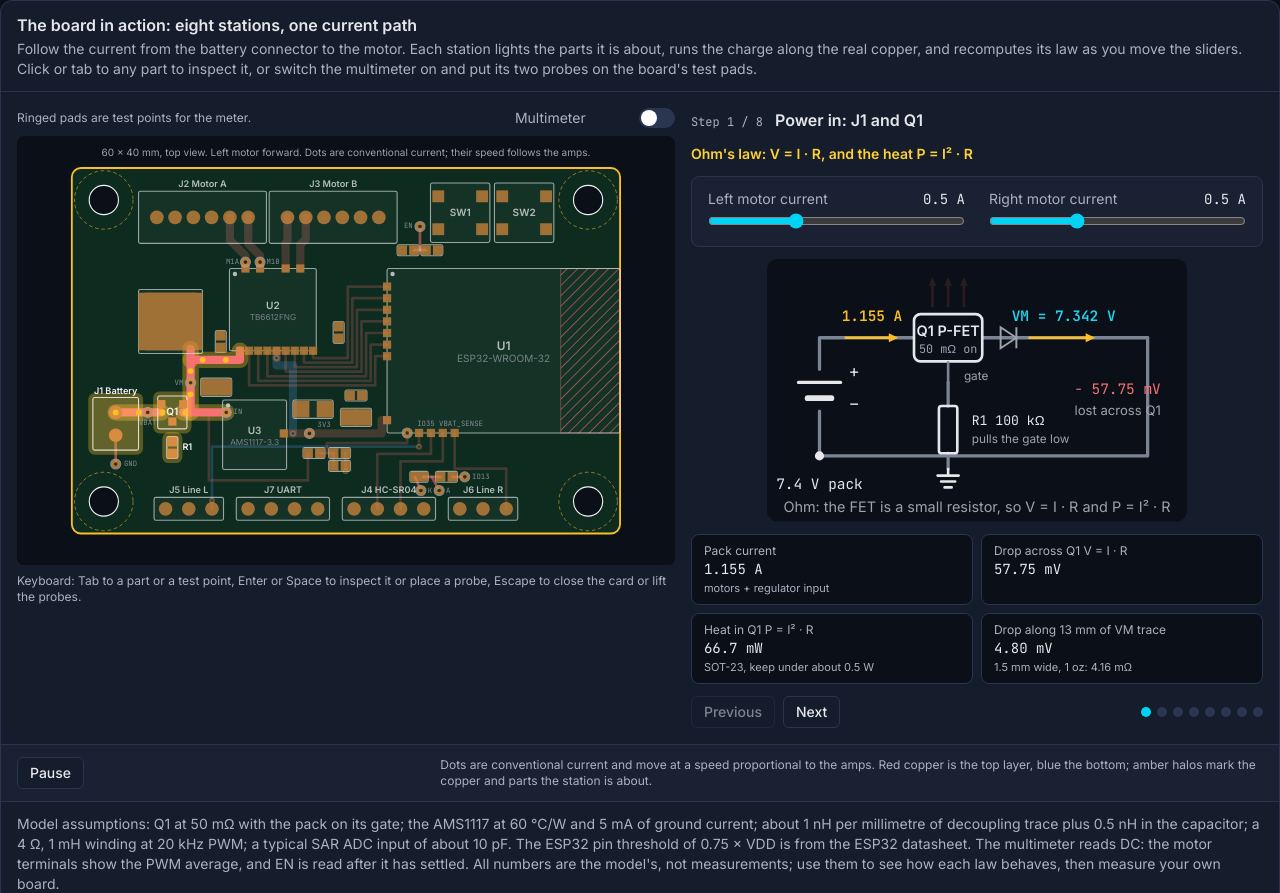
Scenario: BoardInAction multimeter › is off until the Multimeter switch is on; then it asks for the black probe first
The width and height of the screenshot is (1280, 893).
Click the switch labelled "Multimeter".
click(595, 118)  # box [515,108,675,128]
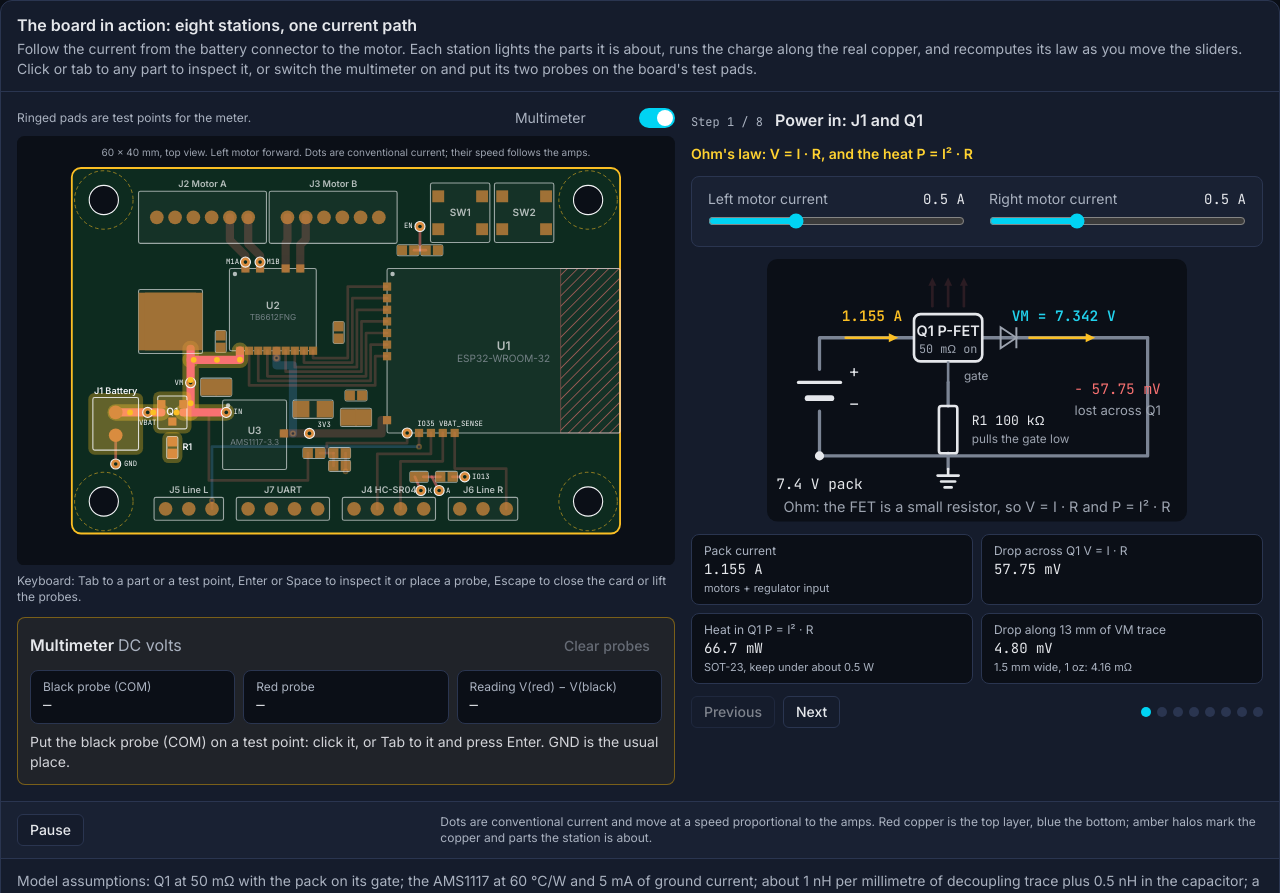
Expected: the element that starts with "Multimeter" shows "Black probe", [43,680,151,694]
